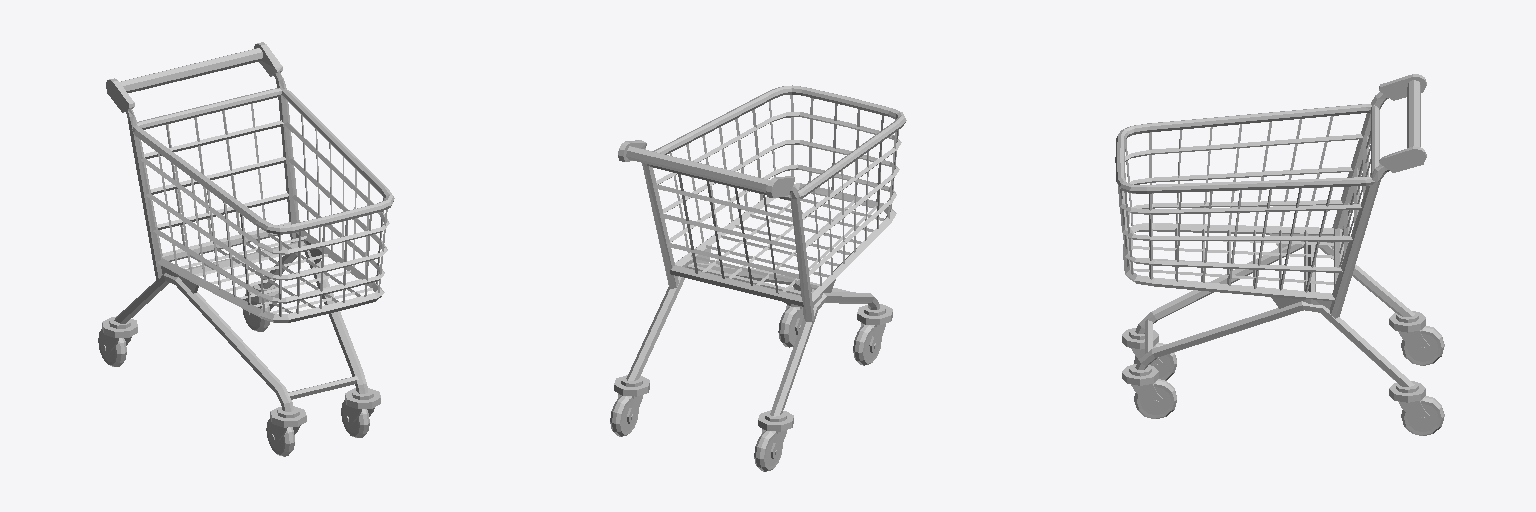
The model's file is shoppingCart.obj.
The picture shows the model from 3 angles: view 1: azimuth 30°, elevation 25°; view 2: azimuth 150°, elevation 25°; view 3: azimuth 270°, elevation 25°; orthographic projection.
Parts seen in each view (by area): view 1: Einkaufswagen_BezierCurve.001; view 2: Einkaufswagen_BezierCurve.001; view 3: Einkaufswagen_BezierCurve.001.
Part boxes in pixels (left/top/right/bottom): Einkaufswagen_BezierCurve.001: left=98, top=42, right=394, bottom=456; Einkaufswagen_BezierCurve.001: left=610, top=85, right=906, bottom=471; Einkaufswagen_BezierCurve.001: left=1115, top=74, right=1444, bottom=435.
Bounding box in the file's own units: 1.67 × 2.62 × 2.71.